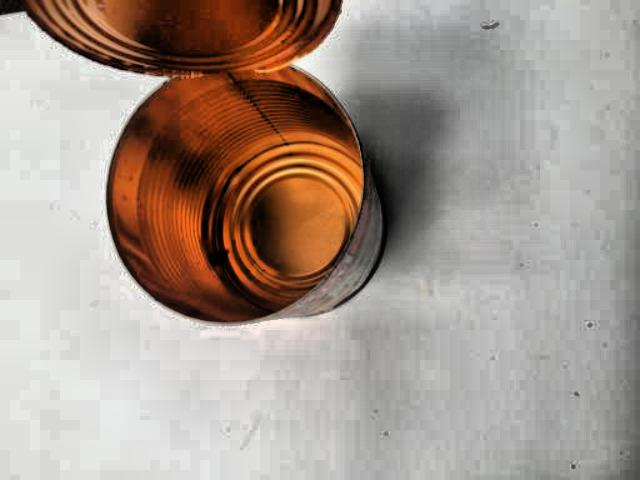Almennt: (6, 0, 401, 325)
